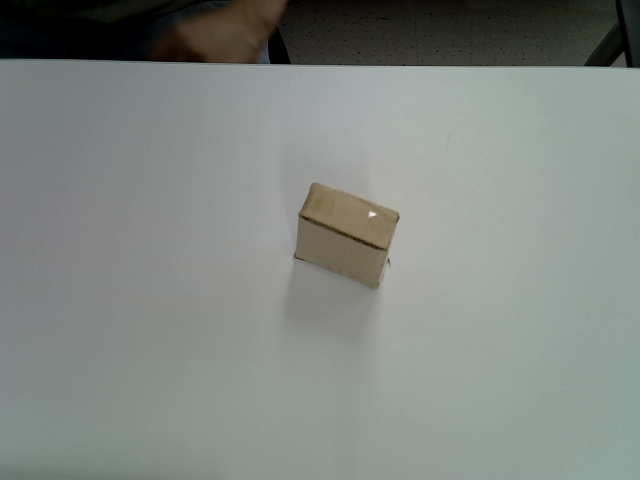normal: (294, 182, 401, 290)
